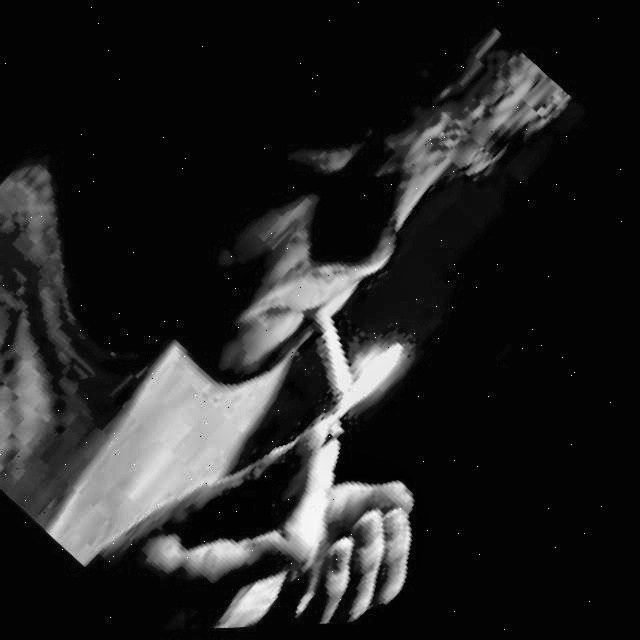Fire: (335, 322, 433, 424)
